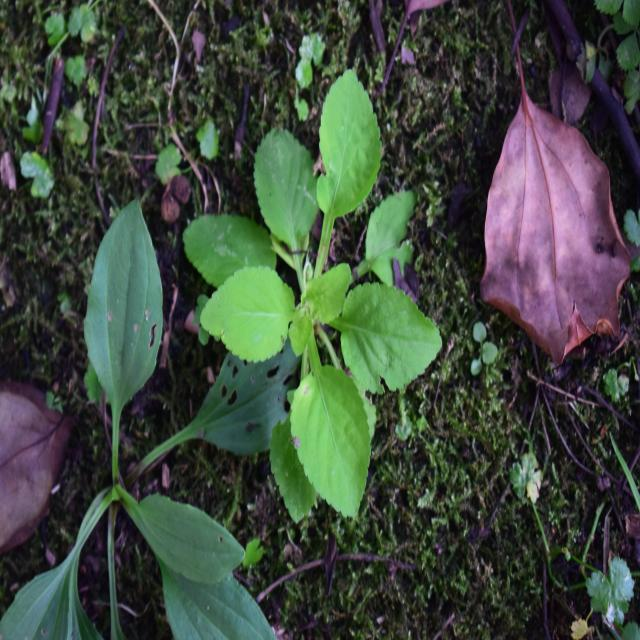Viola: (202, 68, 450, 499)
